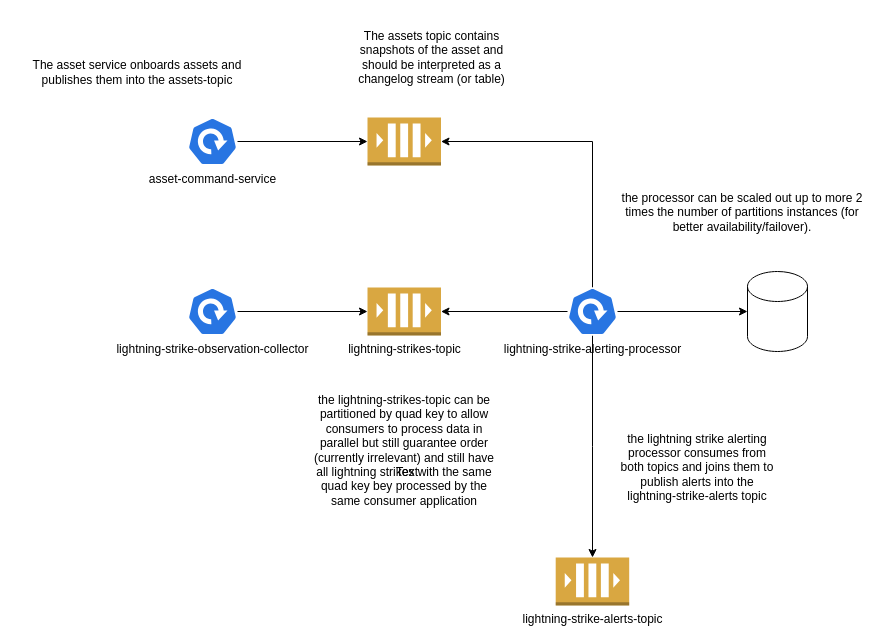
Some shapes in this 884 by 643 pixel diagram are drawn without their labels. Each missing label, with the box of its shape:
assets-topic: (366, 116, 441, 166)
cache: (746, 270, 808, 352)
